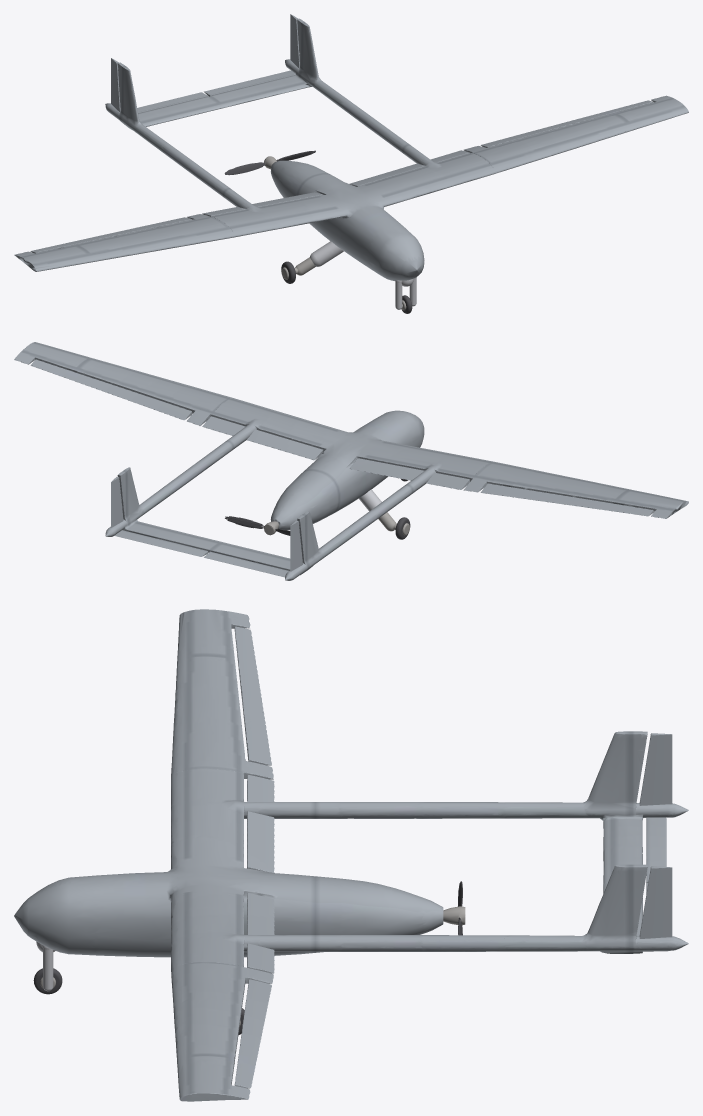
The model's file is skua.glb.
3 renders of one model, top to bottom at view 1: azimuth 30°, elevation 25°; view 2: azimuth 150°, elevation 25°; view 3: azimuth 270°, elevation 25°, orthographic. The views are drawn at different scales.
Visible parts, largest first — view 1: airframe, fsim:aileron (×2), fsim:flaps (×2), fsim:elevator (×2), fsim:propeller:0, Right Main Gear; view 2: airframe, fsim:aileron (×2), fsim:flaps (×2), fsim:elevator (×2), fsim:rudder (×2), fsim:propeller:0; view 3: airframe, fsim:aileron (×2), fsim:flaps (×2), fsim:rudder (×2), fsim:elevator.
Boxes of the visible parts, x1=… form: airframe: x1=14, y1=18, x2=688, y2=280; fsim:aileron (×2): x1=30, y1=100, x2=653, y2=253; fsim:flaps (×2): x1=202, y1=150, x2=469, y2=216; fsim:elevator (×2): x1=137, y1=70, x2=295, y2=113; fsim:propeller:0: x1=224, y1=150, x2=315, y2=175; Right Main Gear: x1=310, y1=241, x2=343, y2=266; airframe: x1=14, y1=342, x2=688, y2=580; fsim:aileron (×2): x1=30, y1=359, x2=653, y2=516; fsim:flaps (×2): x1=202, y1=416, x2=469, y2=489; fsim:elevator (×2): x1=114, y1=530, x2=288, y2=577; fsim:rudder (×2): x1=111, y1=477, x2=302, y2=571; fsim:propeller:0: x1=225, y1=516, x2=290, y2=535; airframe: x1=14, y1=609, x2=688, y2=1101; fsim:aileron (×2): x1=234, y1=626, x2=271, y2=1088; fsim:flaps (×2): x1=247, y1=775, x2=274, y2=973; fsim:rudder (×2): x1=639, y1=733, x2=672, y2=938; fsim:elevator: x1=646, y1=817, x2=666, y2=882.
Bounding box in the file's own units: 4 × 0.7501 × 2.36.
Materials: 4 (1 with a texture image).
